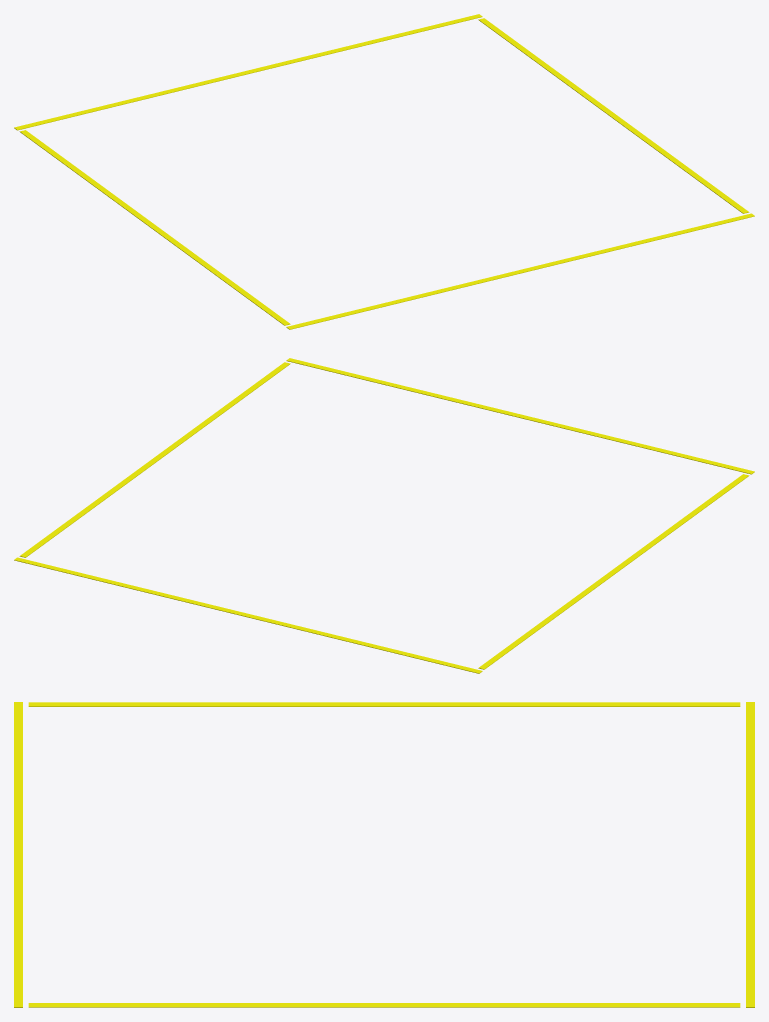
3 views of the same model, one above another, from view 1: azimuth 30°, elevation 25°; view 2: azimuth 150°, elevation 25°; view 3: azimuth 270°, elevation 25° (orthographic). The views are drawn at different scales.
Parts seen in each view (by area): view 1: Work zone end, Work zone end.001, Work zone stripe, Work zone stripe.001; view 2: Work zone end, Work zone end.001, Work zone stripe, Work zone stripe.001; view 3: Work zone stripe, Work zone stripe.001, Work zone end, Work zone end.001.
Part boxes in pixels (x1,y1,x2,y2): Work zone end: [286, 213, 754, 329]; Work zone end.001: [14, 14, 482, 130]; Work zone stripe: [19, 130, 290, 325]; Work zone stripe.001: [478, 18, 749, 213]; Work zone end: [286, 358, 754, 474]; Work zone end.001: [14, 557, 482, 673]; Work zone stripe: [478, 474, 749, 669]; Work zone stripe.001: [19, 362, 290, 557]; Work zone stripe: [28, 702, 740, 706]; Work zone stripe.001: [28, 1003, 740, 1007]; Work zone end: [14, 702, 22, 1007]; Work zone end.001: [746, 702, 754, 1007].
Bounding box in the file's own units: 3.55 × 0.004 × 3.64.
Materials: 1 (1 with a texture image).
